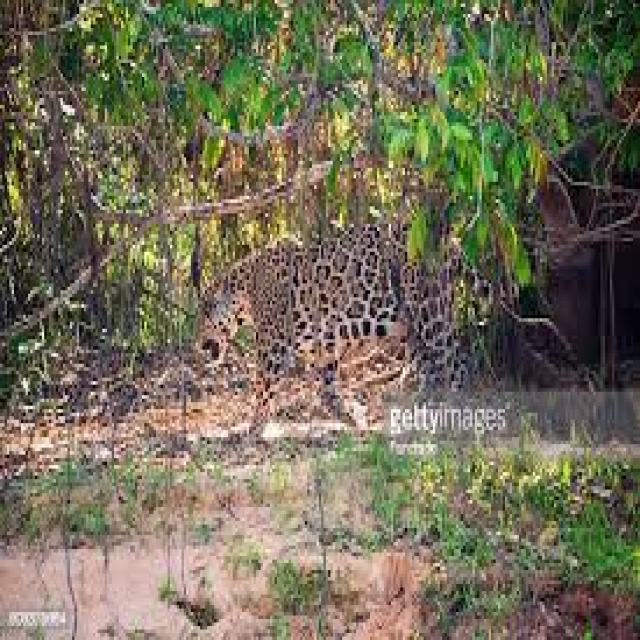Jaguar: (195, 220, 536, 437)
